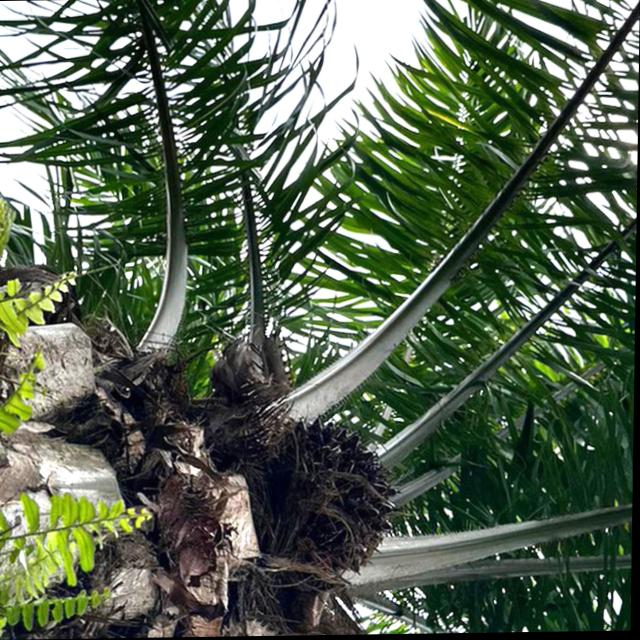ripe: (254, 402, 414, 589)
